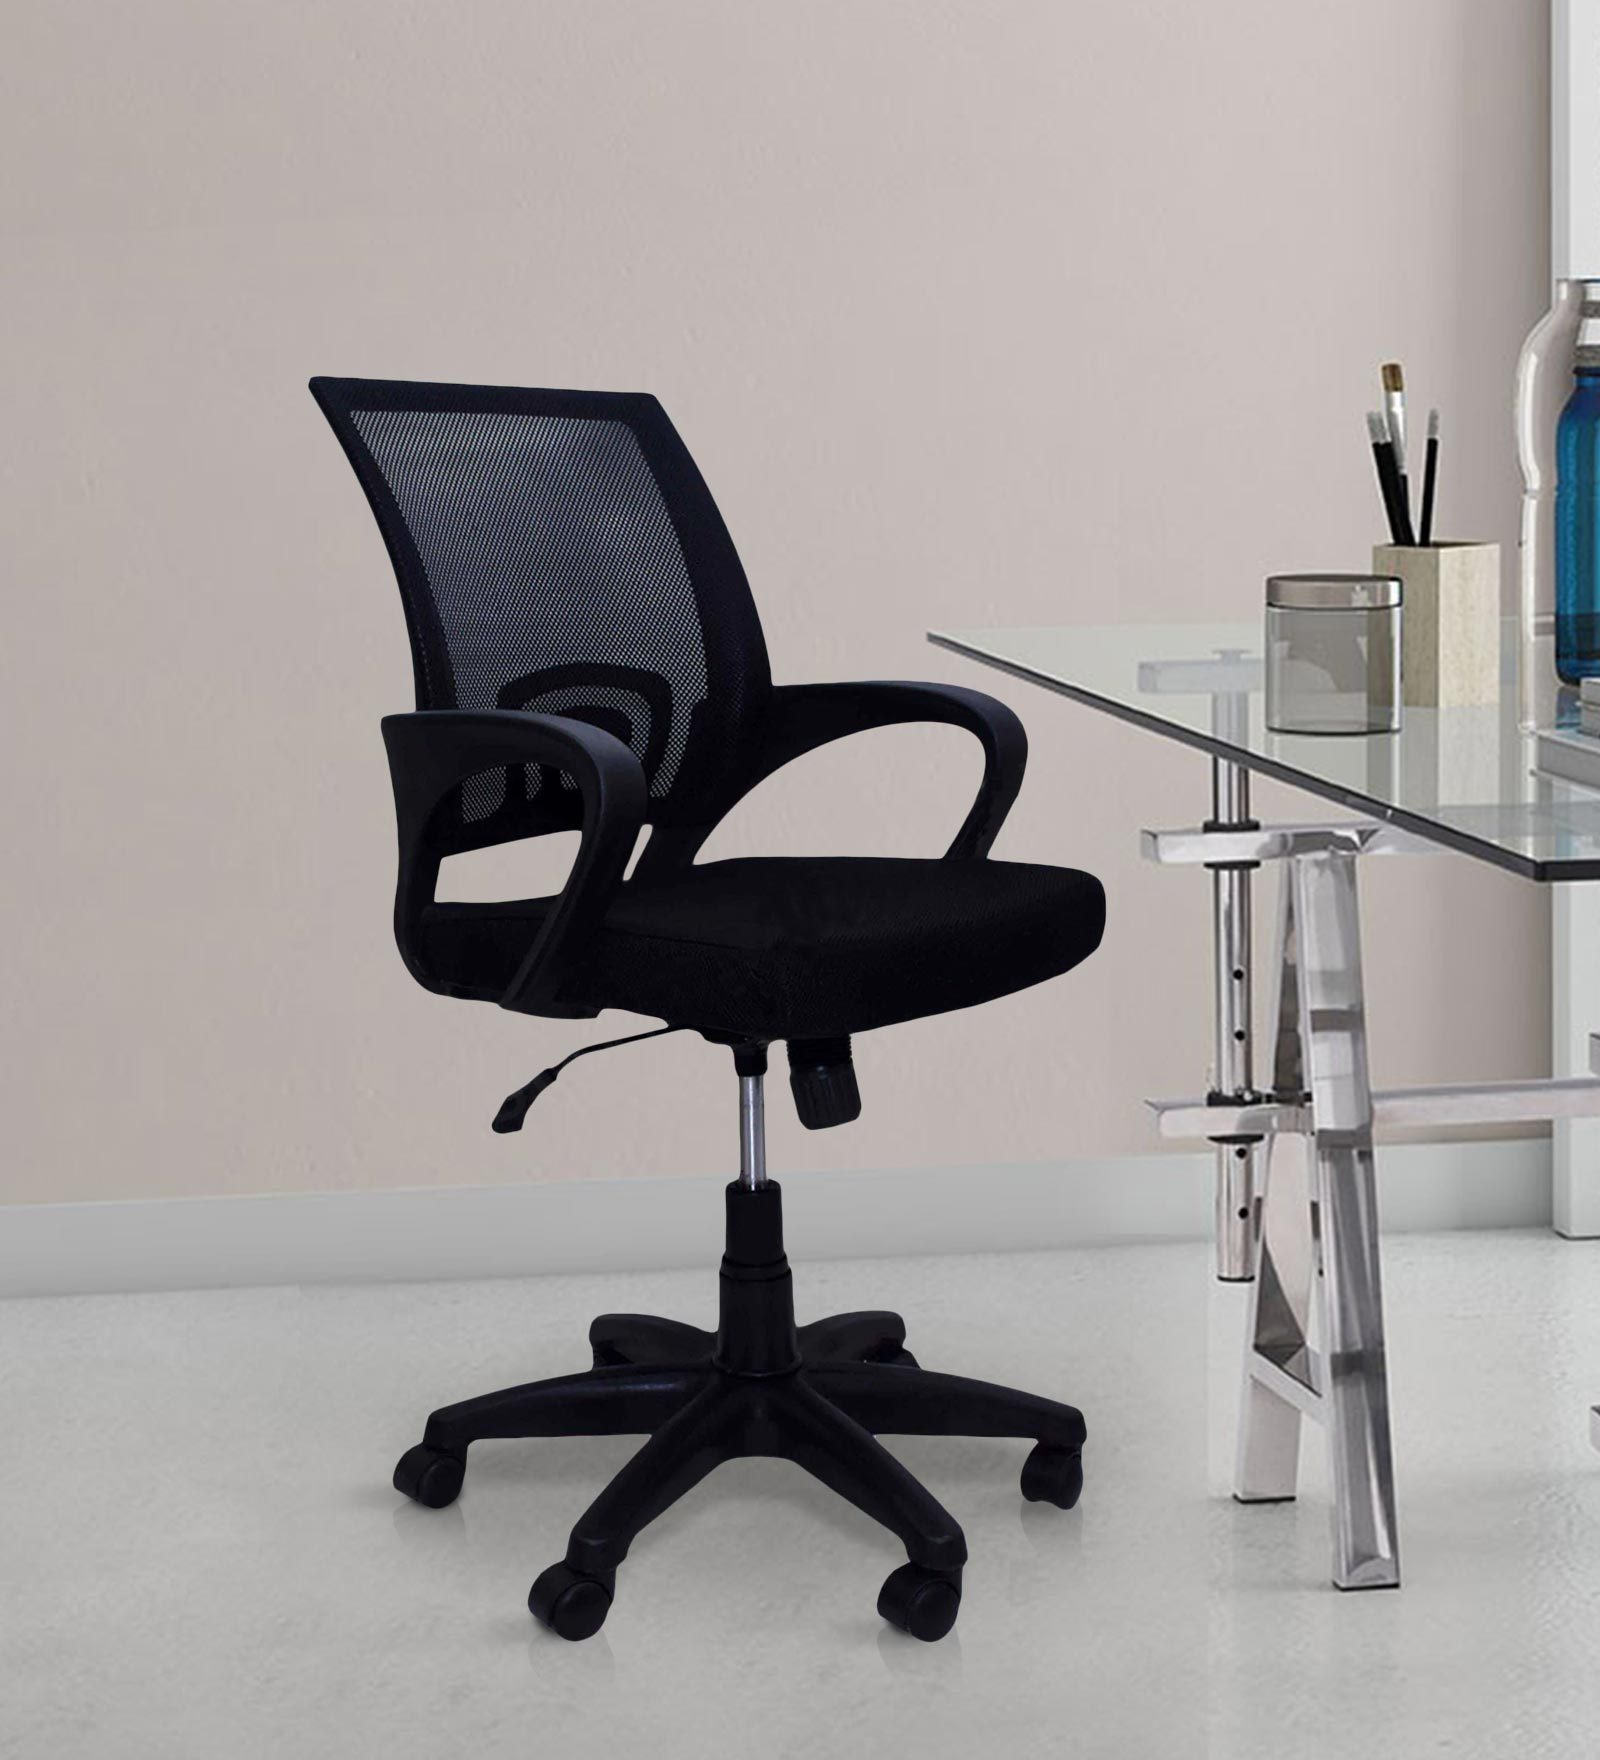Voom Ergonomic Chair in Black Colour by Emperor: (247, 293, 1143, 1693)
